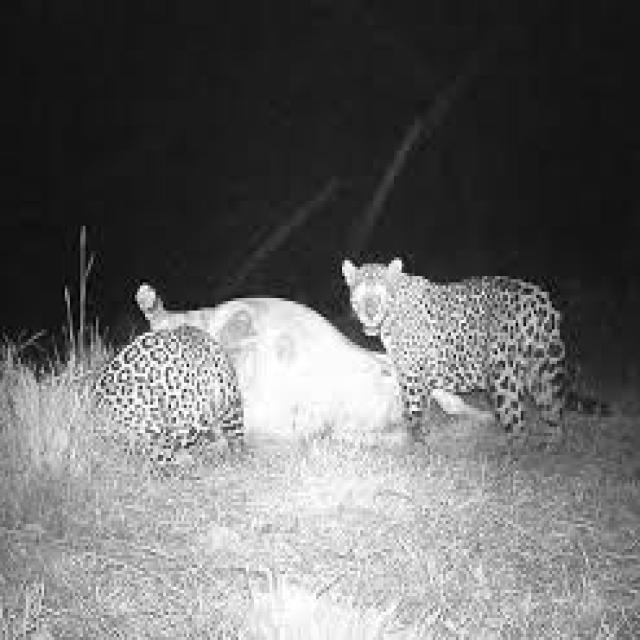Jaguar: (334, 244, 591, 448), (62, 317, 270, 458)
